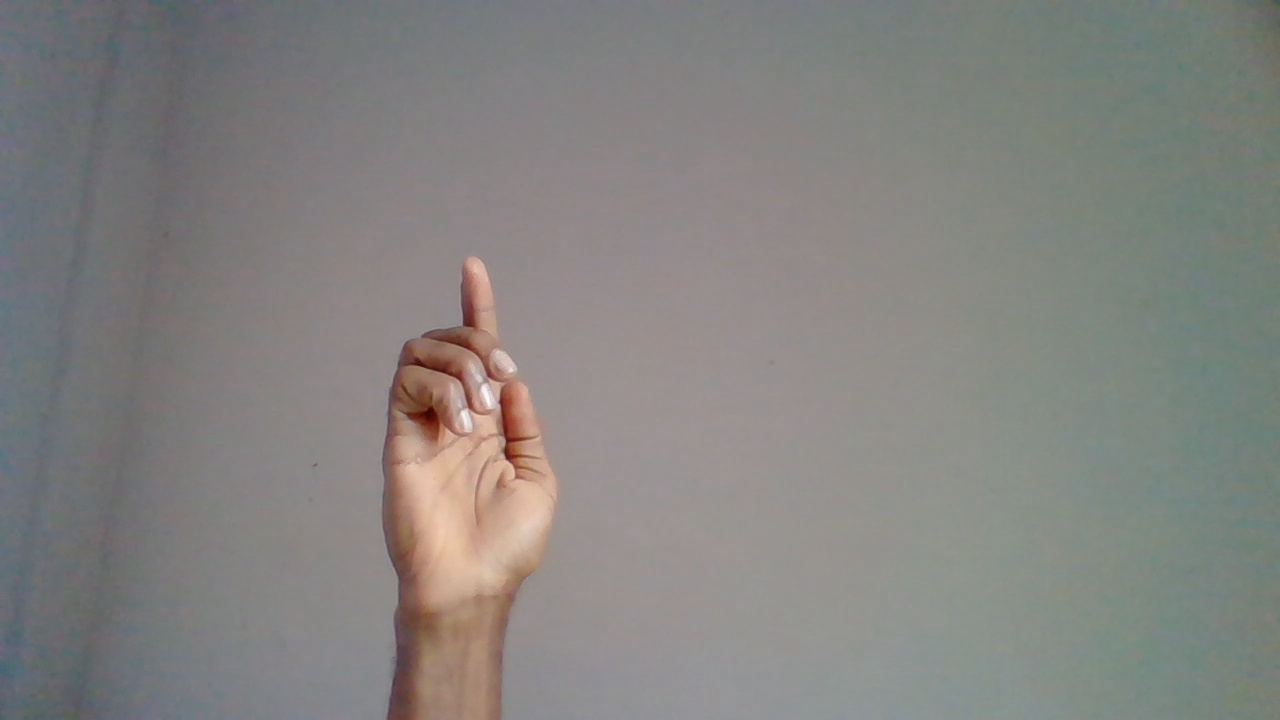qe: (378, 256, 568, 687)
